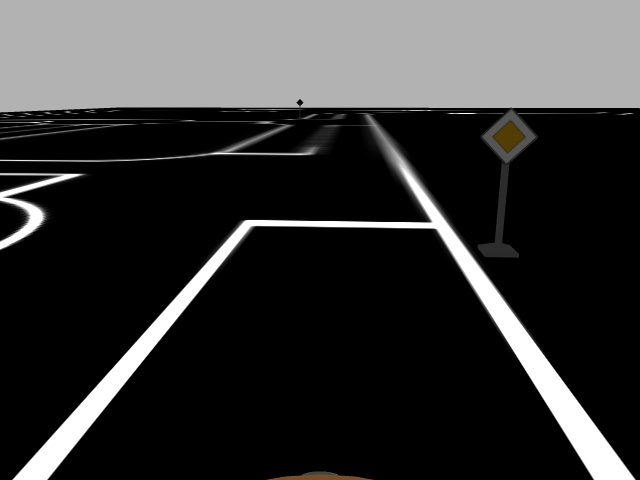priority: (481, 108, 536, 165)
